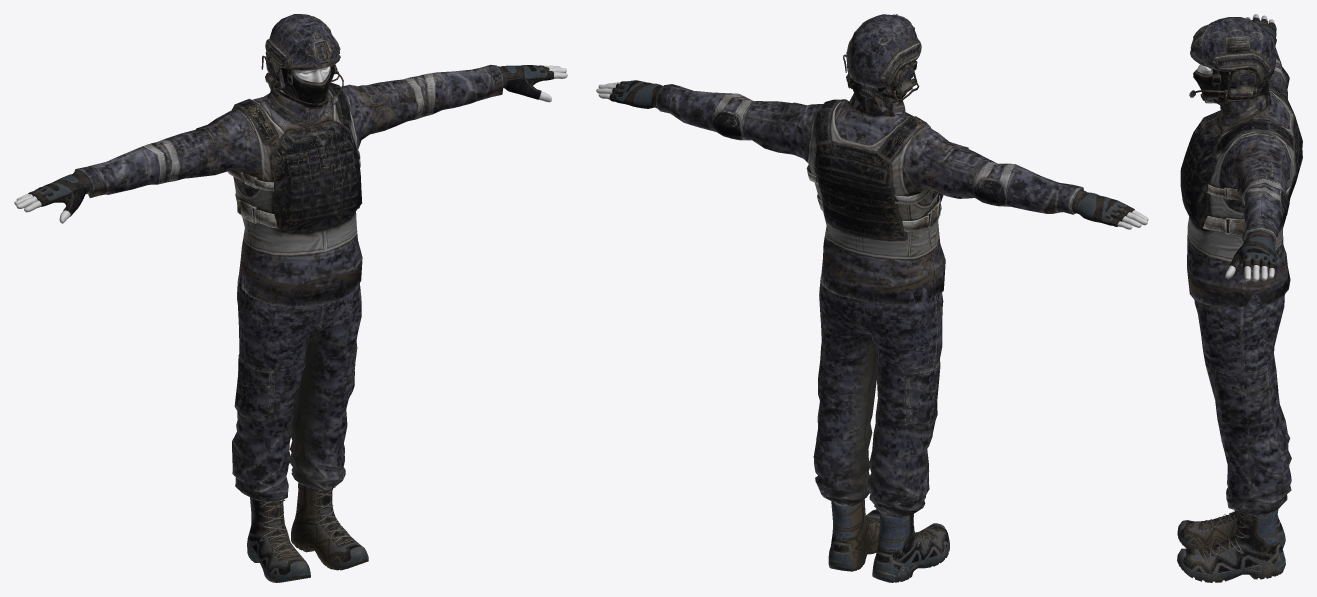
File: Nine-Tailed Fox 1.obj
3 renders of one model, left to right at view 1: azimuth 30°, elevation 25°; view 2: azimuth 150°, elevation 25°; view 3: azimuth 270°, elevation 25°, orthographic.
Parts seen in each view (by area): view 1: Tops, Bottoms, Shoes, Hats, Gloves, Body, Masks; view 2: Tops, Bottoms, Shoes, Hats, Gloves, Masks; view 3: Tops, Bottoms, Shoes, Hats, Gloves, Masks, Body.
Part boxes in pixels (x1,y1,x2,y2): Tops: (74,65,503,307); Bottoms: (232,270,361,501); Shoes: (247,482,368,582); Hats: (261,14,343,108); Gloves: (28,65,553,216); Body: (14,65,567,223); Masks: (267,57,331,108); Tops: (655,84,1083,304); Bottoms: (813,275,943,517); Shoes: (828,499,949,582); Hats: (843,14,921,100); Gloves: (609,80,1134,226); Masks: (850,63,910,116); Tops: (1180,31,1302,306); Bottoms: (1194,289,1291,516); Shoes: (1177,509,1285,582); Hats: (1189,17,1275,103); Gloves: (1228,17,1276,271); Masks: (1193,69,1270,112); Body: (1196,14,1274,281).
Bounding box in the file's own units: 194 × 183 × 38.63.
